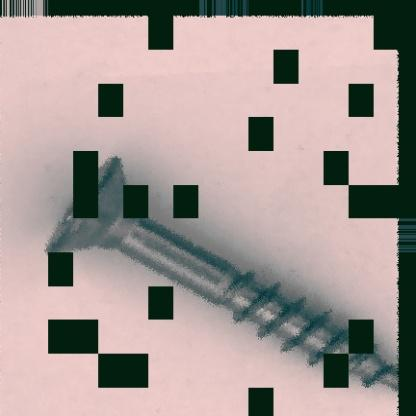metal: (45, 154, 401, 395)
